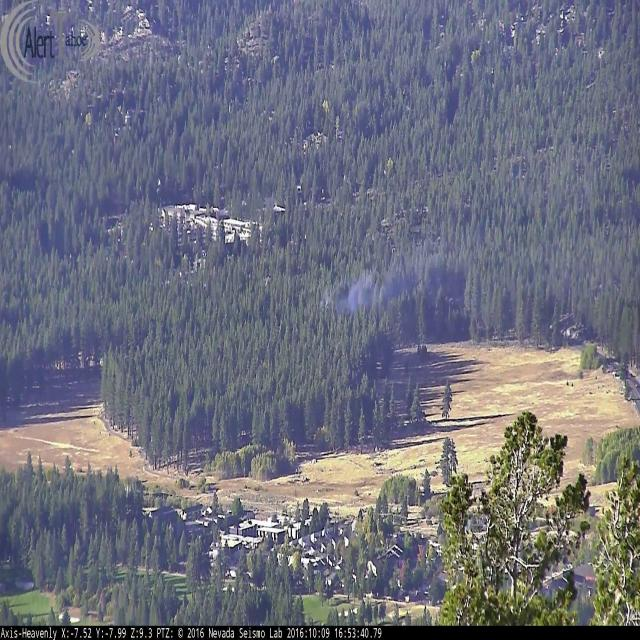smoke: (314, 251, 462, 317)
